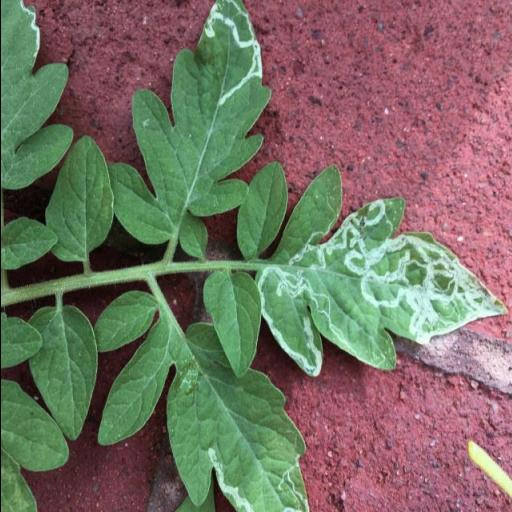disease_tomato: (255, 166, 507, 380), (111, 0, 270, 244), (166, 321, 325, 512)
